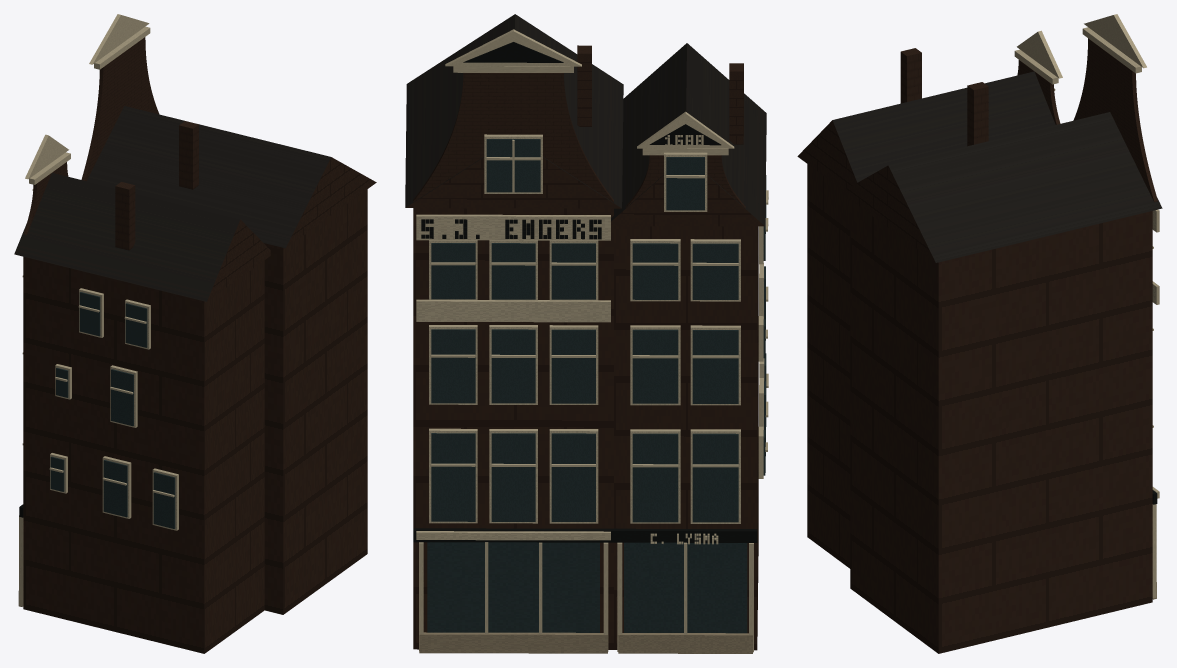
3 renders of one model, left to right at view 1: azimuth 30°, elevation 25°; view 2: azimuth 150°, elevation 25°; view 3: azimuth 270°, elevation 25°, orthographic. The views are drawn at different scales.
Parts seen in each view (by area): view 1: westewagenstraat2-4-0, westewagenstraat2-4-1, westewagenstraat2-4-2, westewagenstraat2-4-4; view 2: westewagenstraat2-4-4, westewagenstraat2-4-0, westewagenstraat2-4-2, westewagenstraat2-4-1, westewagenstraat2-4-5, westewagenstraat2-4-3; view 3: westewagenstraat2-4-0, westewagenstraat2-4-1, westewagenstraat2-4-2.
Part boxes in pixels (x1,y1,x2,y2): westewagenstraat2-4-0: [23, 37, 376, 653]; westewagenstraat2-4-1: [14, 106, 330, 301]; westewagenstraat2-4-2: [19, 14, 178, 606]; westewagenstraat2-4-4: [50, 292, 175, 528]; westewagenstraat2-4-4: [427, 139, 766, 633]; westewagenstraat2-4-0: [406, 45, 764, 650]; westewagenstraat2-4-2: [416, 29, 768, 652]; westewagenstraat2-4-1: [405, 14, 766, 225]; westewagenstraat2-4-5: [419, 632, 752, 653]; westewagenstraat2-4-3: [413, 42, 757, 542]; westewagenstraat2-4-0: [797, 38, 1157, 653]; westewagenstraat2-4-1: [832, 71, 1162, 262]; westewagenstraat2-4-2: [1014, 14, 1159, 598].
Bounding box in the file's own units: 14.2 × 21.3 × 12.74.
Materials: 6 (6 with a texture image).
